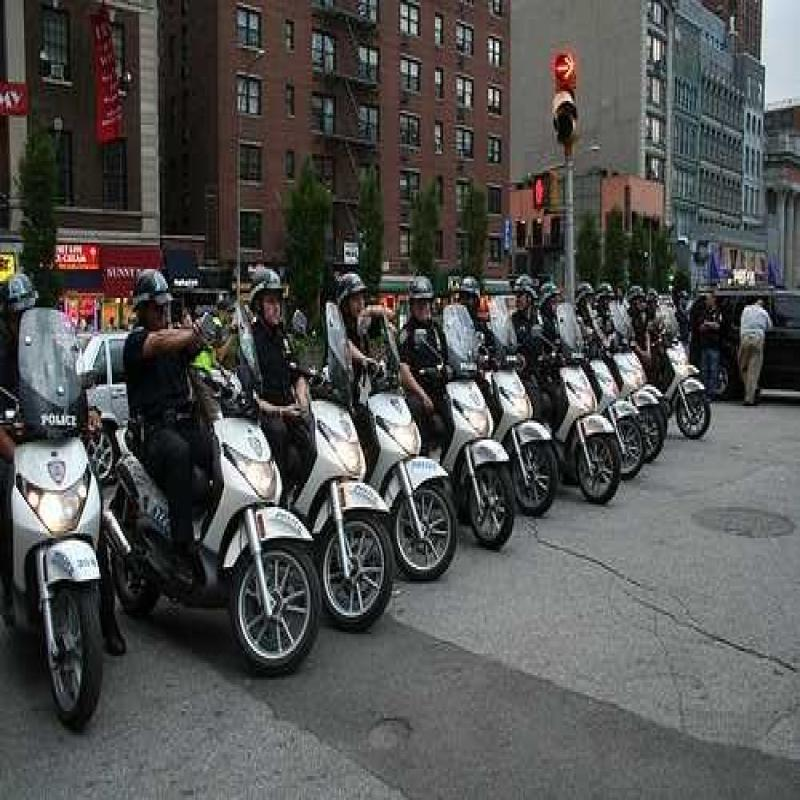bike: (0, 287, 120, 724), (182, 342, 310, 665), (295, 326, 394, 664), (365, 355, 454, 586), (439, 368, 521, 554), (489, 350, 566, 526), (559, 347, 621, 515), (651, 315, 727, 452)
